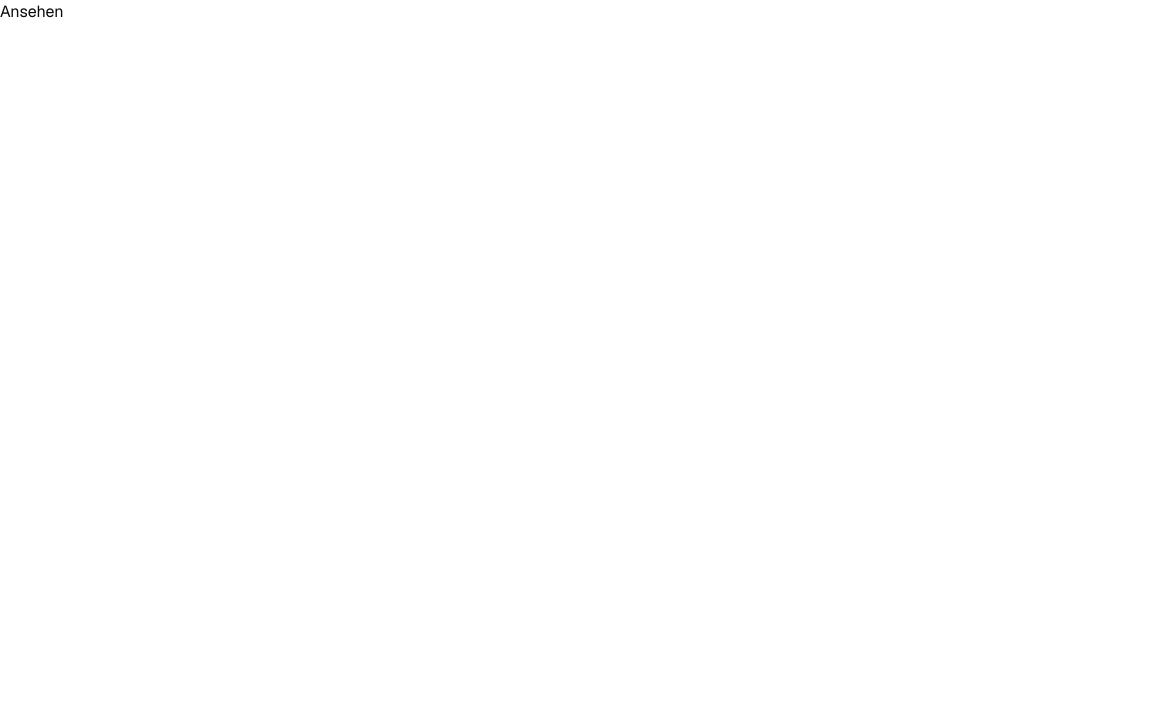
Test: VerkaufUebersichtDialog › zeigt Kopf, Positionen und Reservierung
The image size is (1152, 720).
Step 1. Click the button "Ansehen" → point(32, 12), box top-left (0, 0), bottom-right (64, 24)
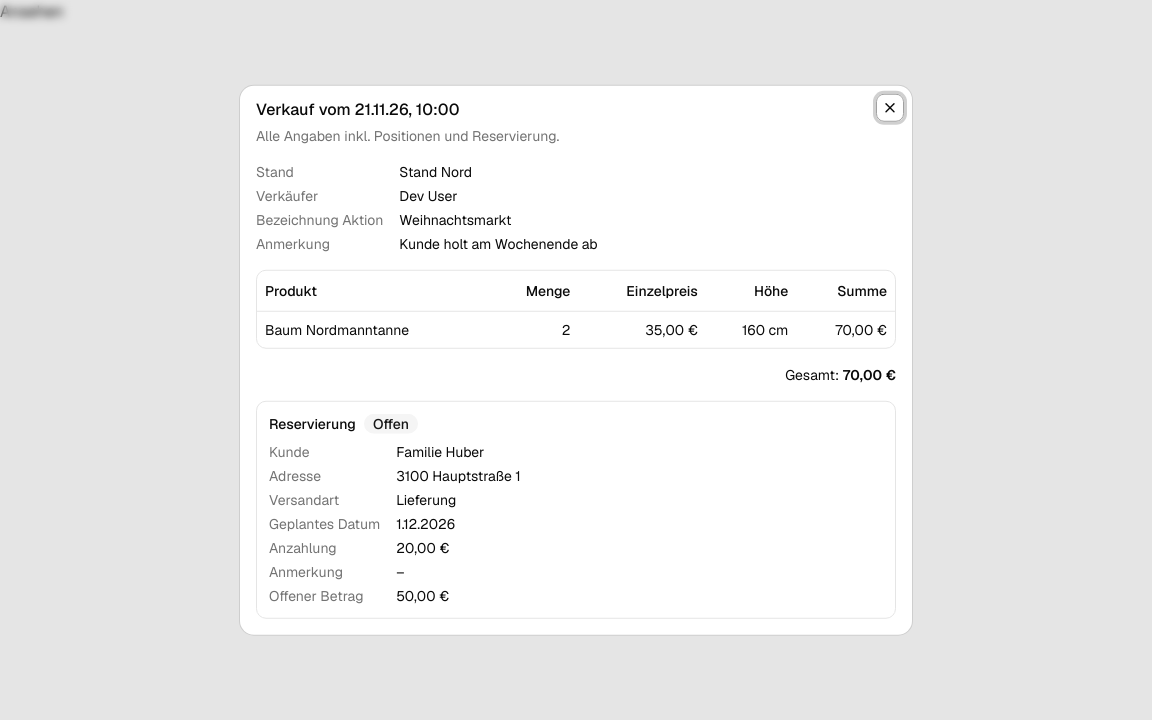
Expected: the heading "Verkauf vom 21.11.26, 10:00" is shown, top-left (256, 99), bottom-right (460, 120)
Expected: the text "Dev User" is shown, top-left (399, 187), bottom-right (458, 205)
Expected: the text "Baum Nordmanntanne" is shown, top-left (257, 311), bottom-right (490, 347)
